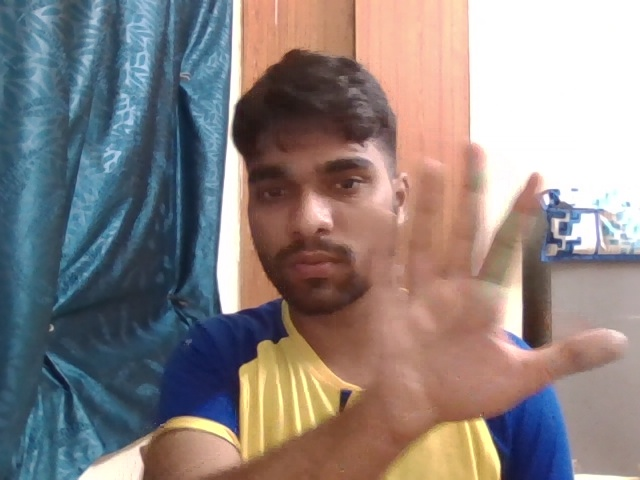Hello: (339, 145, 634, 417)
